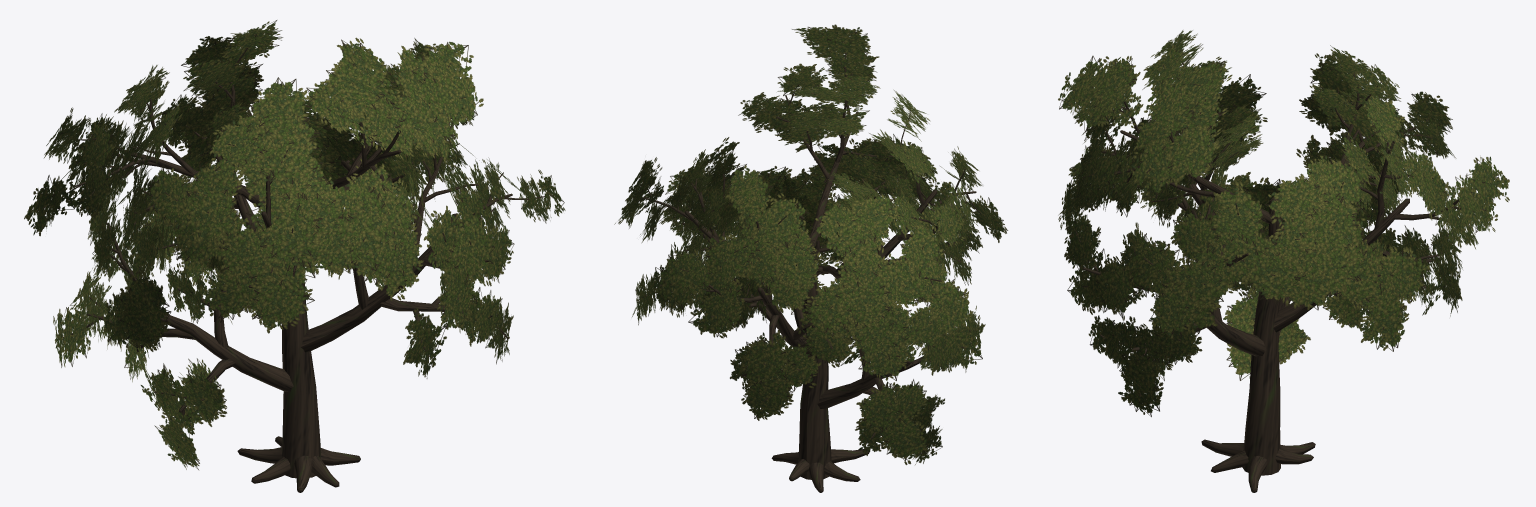
The model's file is DarkOak_1.gltf.
3 views of the same model, side by side, from view 1: azimuth 30°, elevation 25°; view 2: azimuth 150°, elevation 25°; view 3: azimuth 270°, elevation 25° (orthographic). The views are drawn at different scales.
Parts seen in each view (by area): view 1: DarkOak_1; view 2: DarkOak_1; view 3: DarkOak_1.
Part boxes in pixels (x1,y1,x2,y2): DarkOak_1: (24,20,565,492); DarkOak_1: (614,24,1007,492); DarkOak_1: (1058,30,1509,492).
Size of the model in its own units: 17.45 by 17.28 by 16.53.
2 materials, 2 textured.
